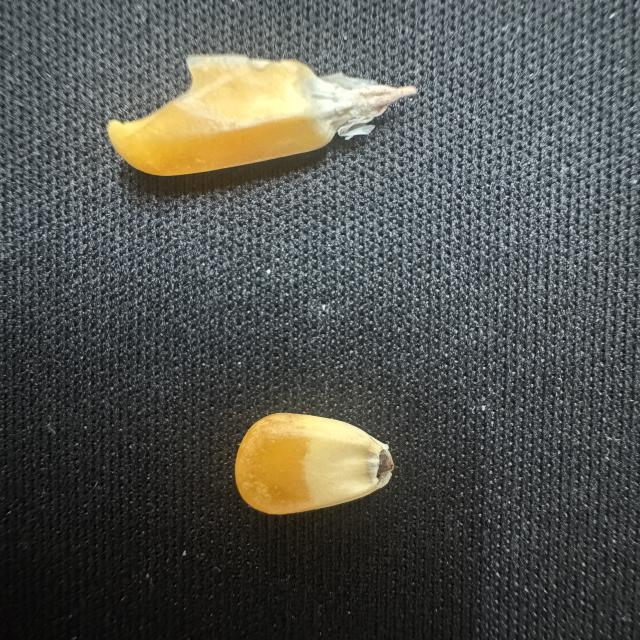Bad-Seed: (98, 47, 427, 183), (226, 408, 405, 520)
